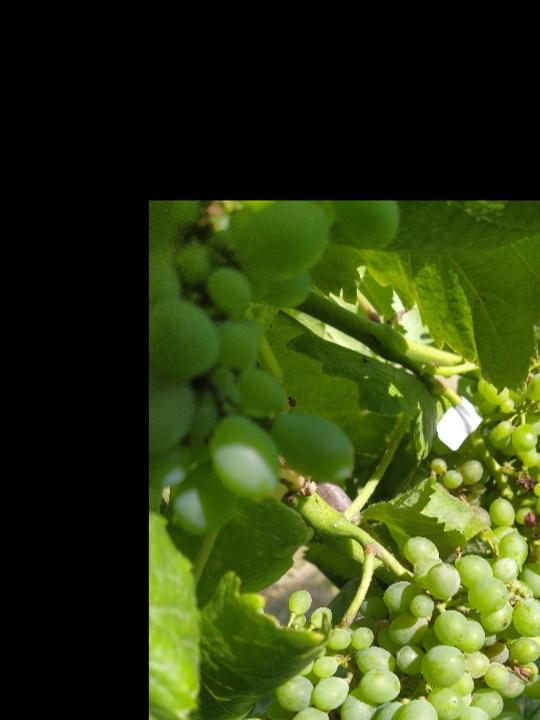grape: (212, 536, 540, 720)
